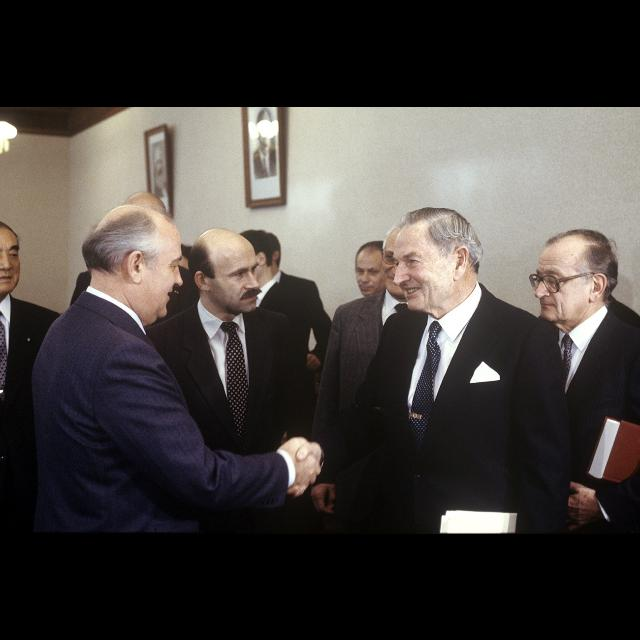head: (88, 202, 185, 318), (392, 208, 481, 314), (534, 229, 618, 323), (188, 228, 262, 314), (382, 220, 442, 298), (356, 240, 398, 296), (234, 230, 272, 284), (0, 220, 22, 295), (249, 230, 283, 276)
